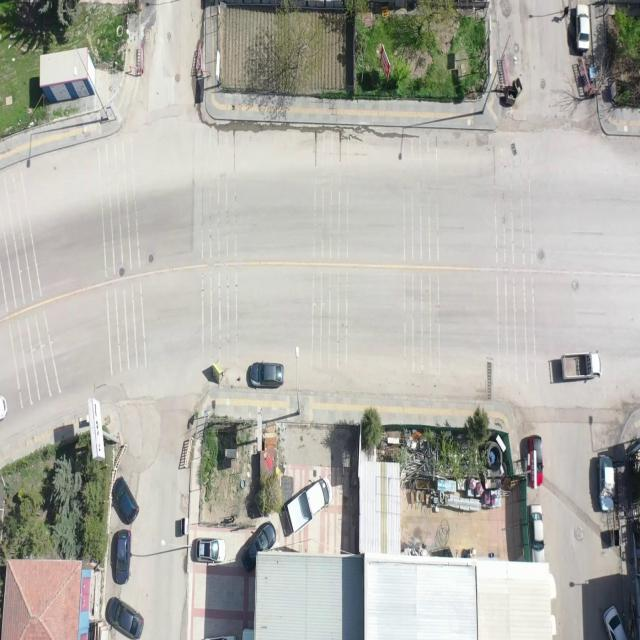p3rson: (562, 5, 569, 19)
